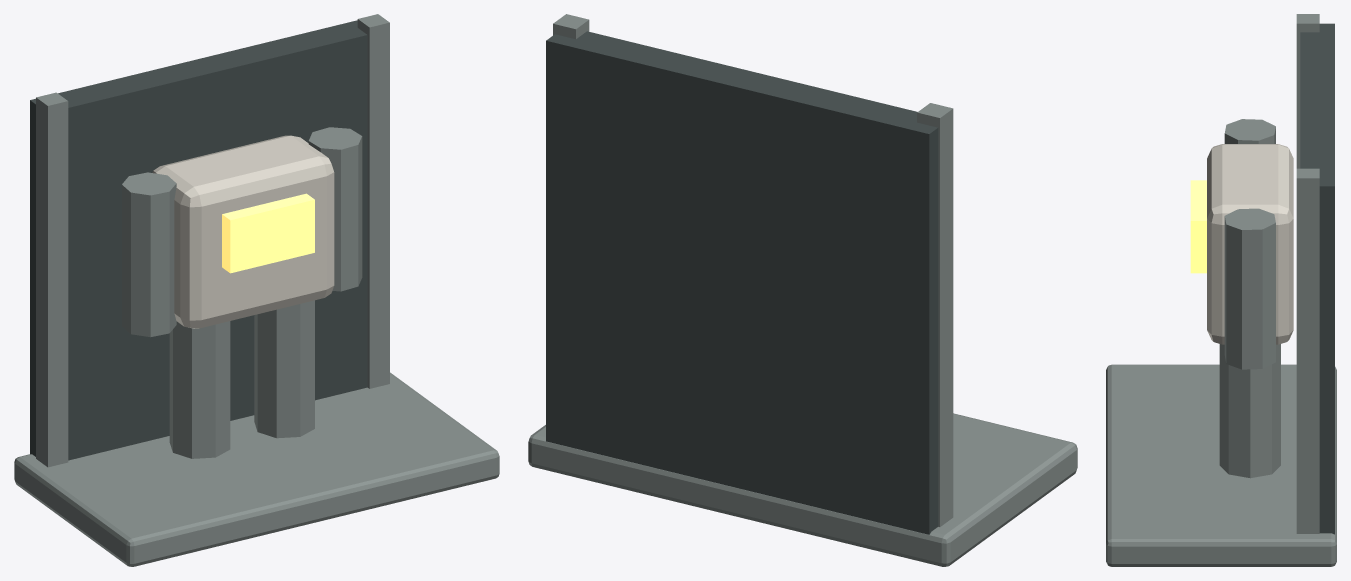
The model's file is prop_suit_rack.glb.
3 renders of one model, left to right at view 1: azimuth 30°, elevation 25°; view 2: azimuth 150°, elevation 25°; view 3: azimuth 270°, elevation 25°, orthographic. The views are drawn at different scales.
Visible parts, largest first — view 1: prop_suit_rack; view 2: prop_suit_rack; view 3: prop_suit_rack.
Part boxes in pixels (bbox=[...]): prop_suit_rack: bbox=[14, 14, 499, 566]; prop_suit_rack: bbox=[528, 14, 1077, 566]; prop_suit_rack: bbox=[1106, 14, 1336, 566].
Size of the model in its own units: 2.2 by 2.2 by 1.2.
